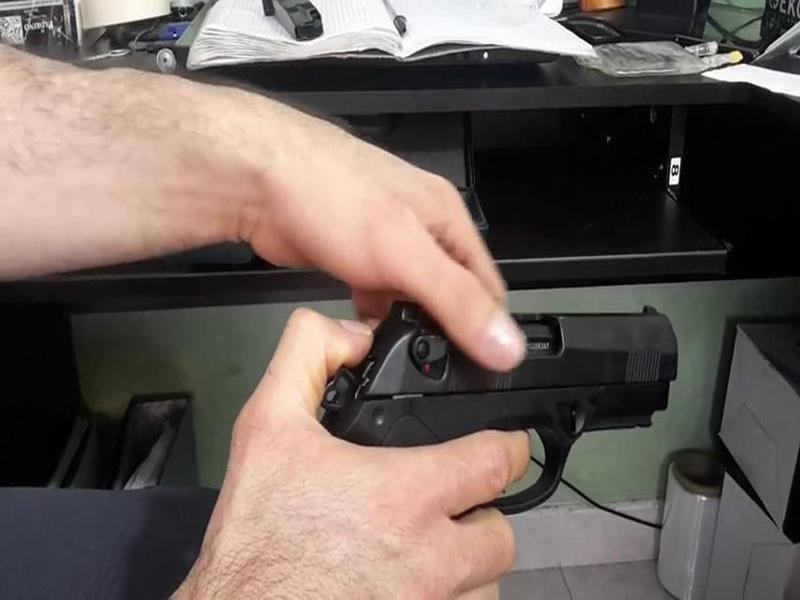Pistola: (302, 283, 727, 545)
